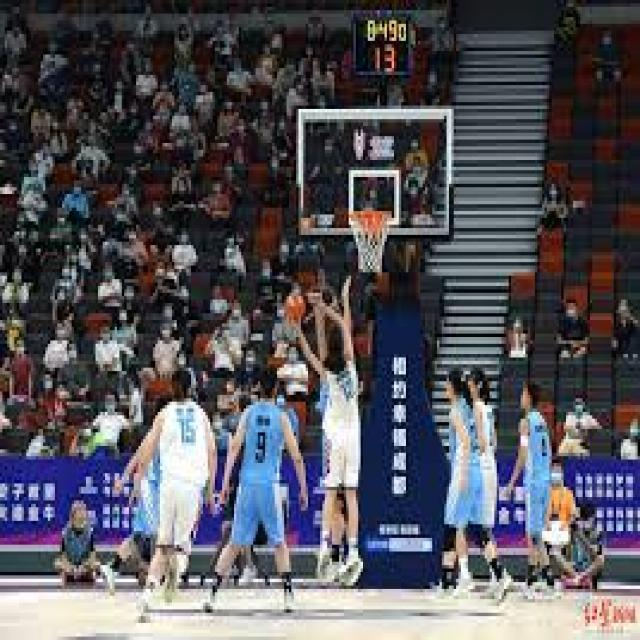rim: (286, 289, 308, 320)
